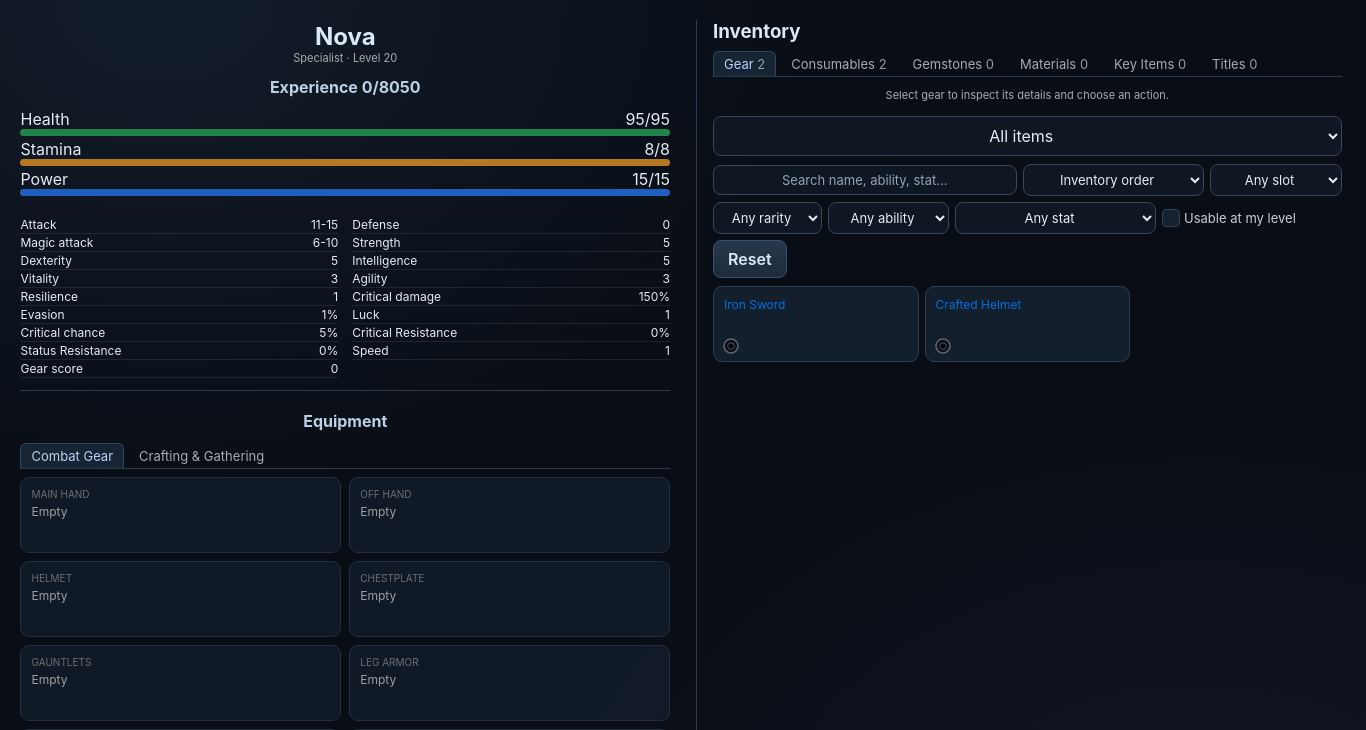
Test case: cancelling does not consume a rune or change an item
This screenshot has width=1366, height=730.
Step 1. Click the tab "Consumables 2" → coordinates (839, 64), box [780,52,898,76]
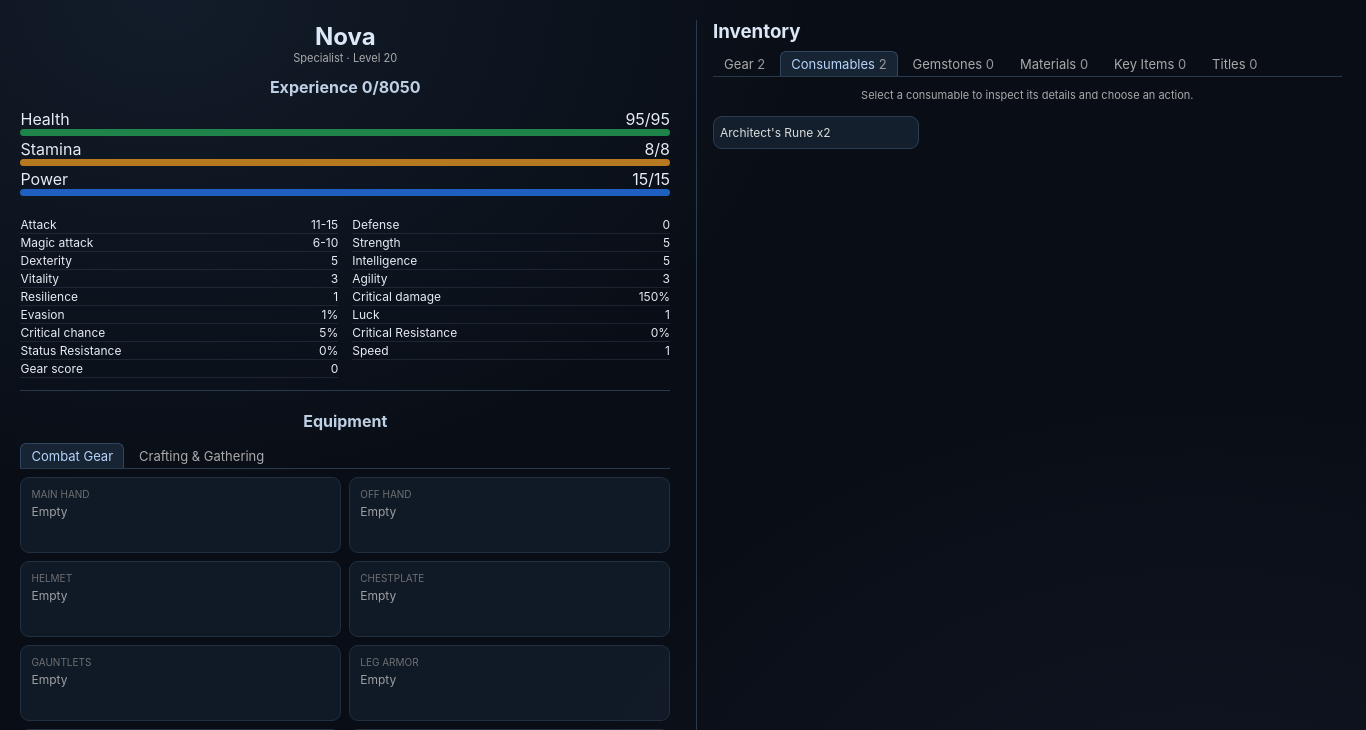
Step 2. Click the button "Architect's Rune x2" → coordinates (816, 133), box [713,116,918,150]
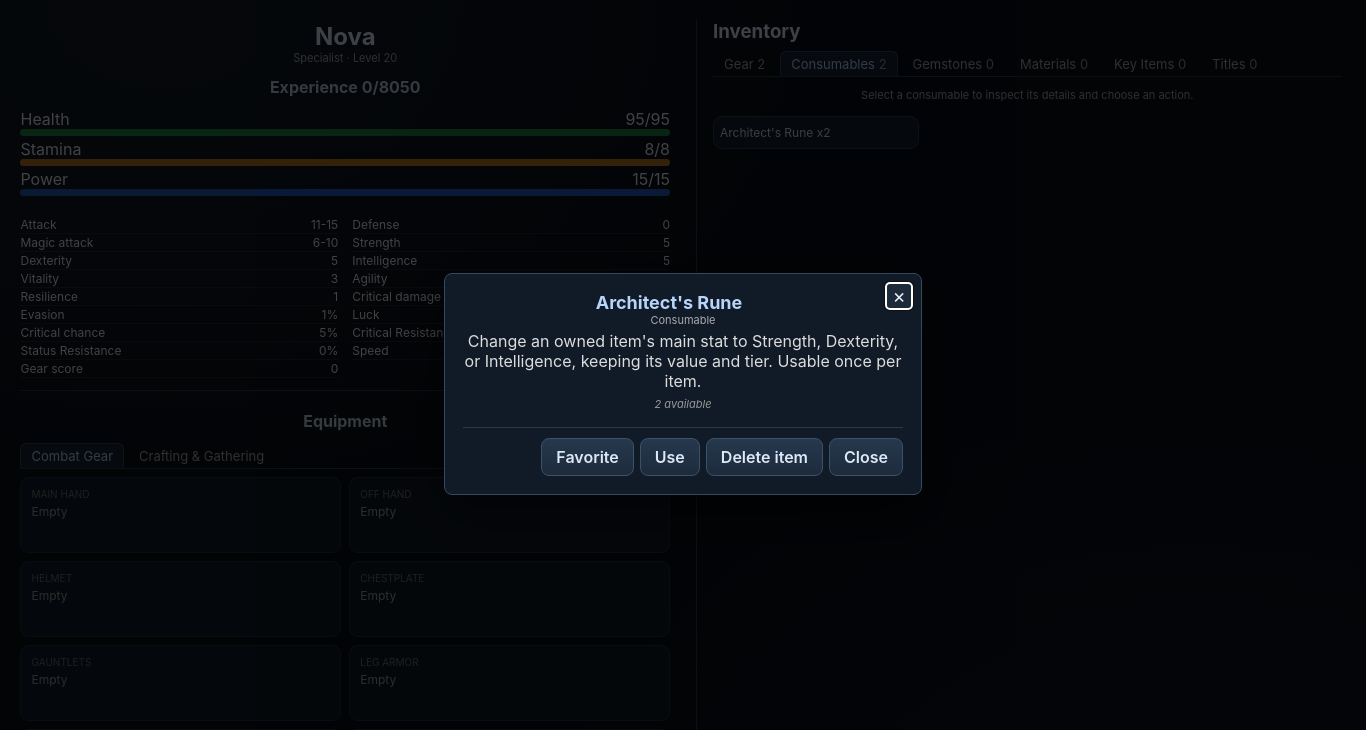
Step 3. Click the button "Use" → coordinates (670, 457), box [640,438,700,476]
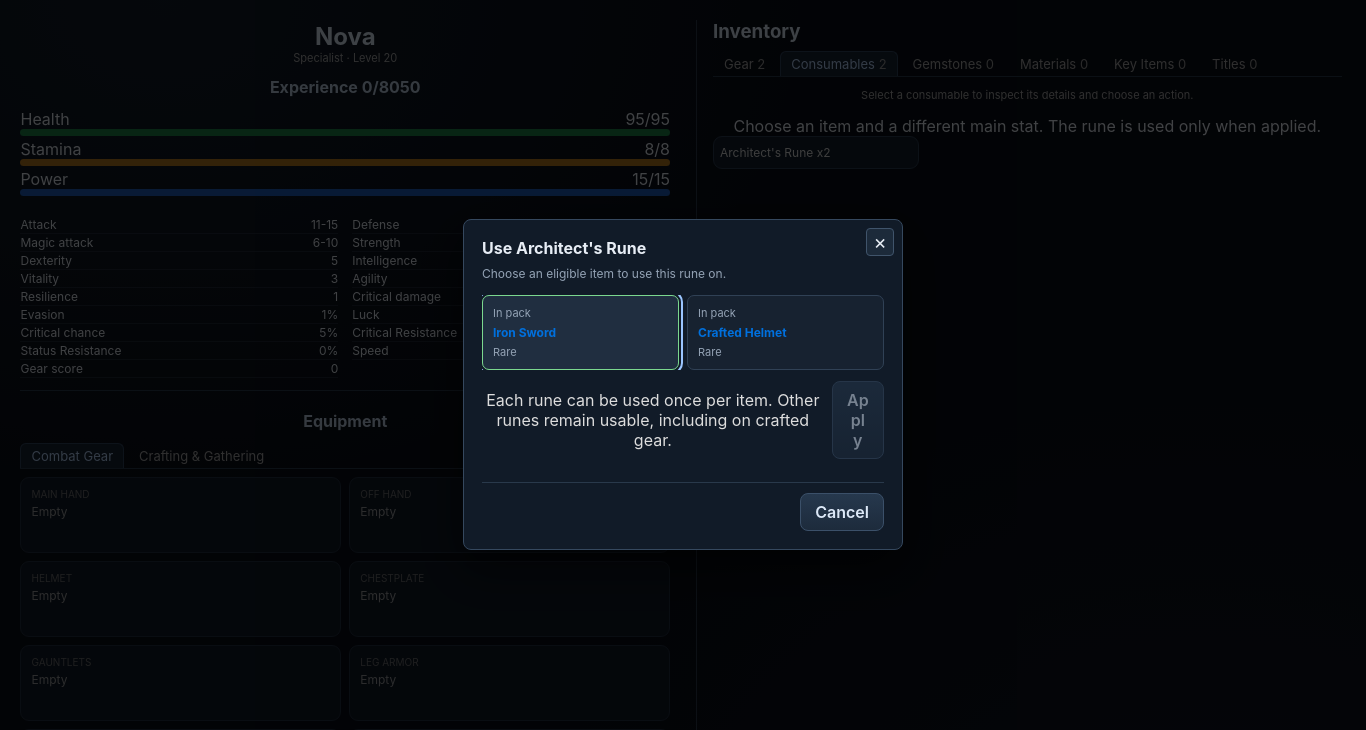
Step 4. Click the button "Cancel" → coordinates (842, 512), box [800,492,884,530]
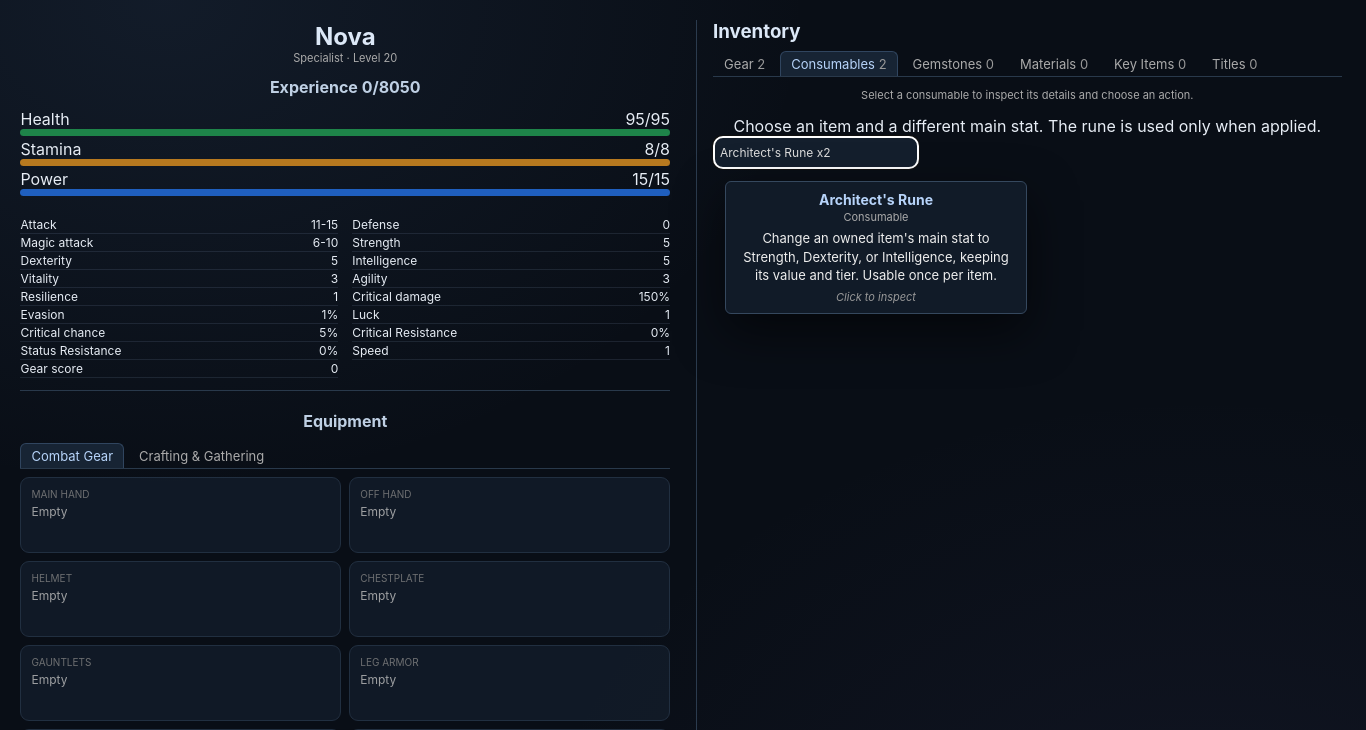
Expected: the heading "Use Architect's Rune" is gone
